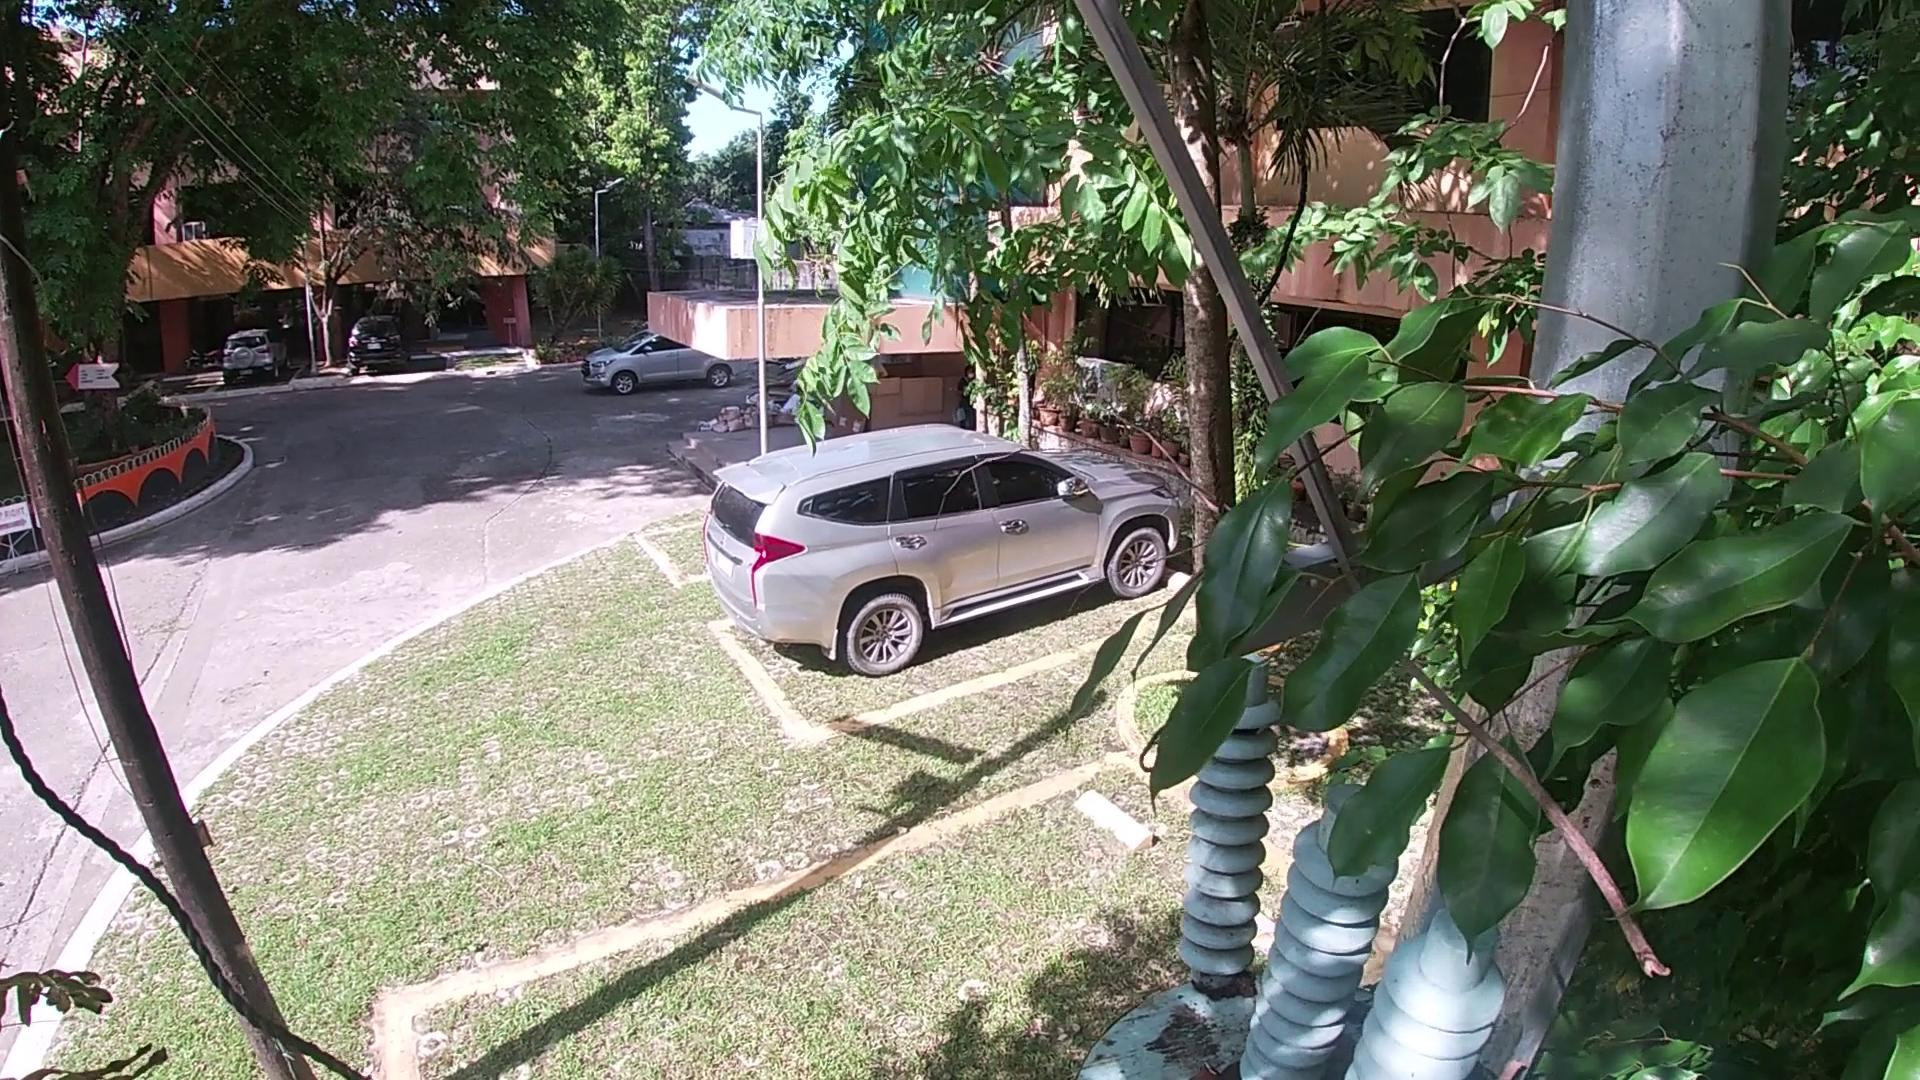mahogany fruit: (1164, 1058, 1236, 1077)
tree branch: (956, 410, 1716, 1000), (1476, 1051, 1528, 1077)
